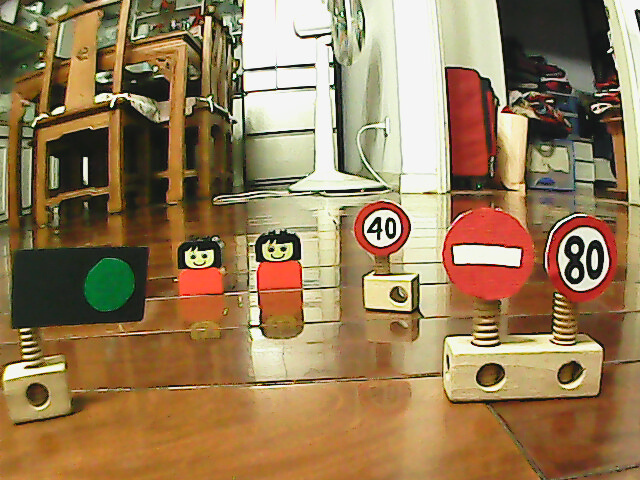Green Traffic Light: (76, 249, 142, 323)
Person: (251, 225, 305, 292), (176, 233, 226, 297)
Speed Limit 40: (352, 198, 414, 257)
Speed Limit 80: (541, 209, 621, 304)
Stop Sign: (439, 204, 539, 303)
